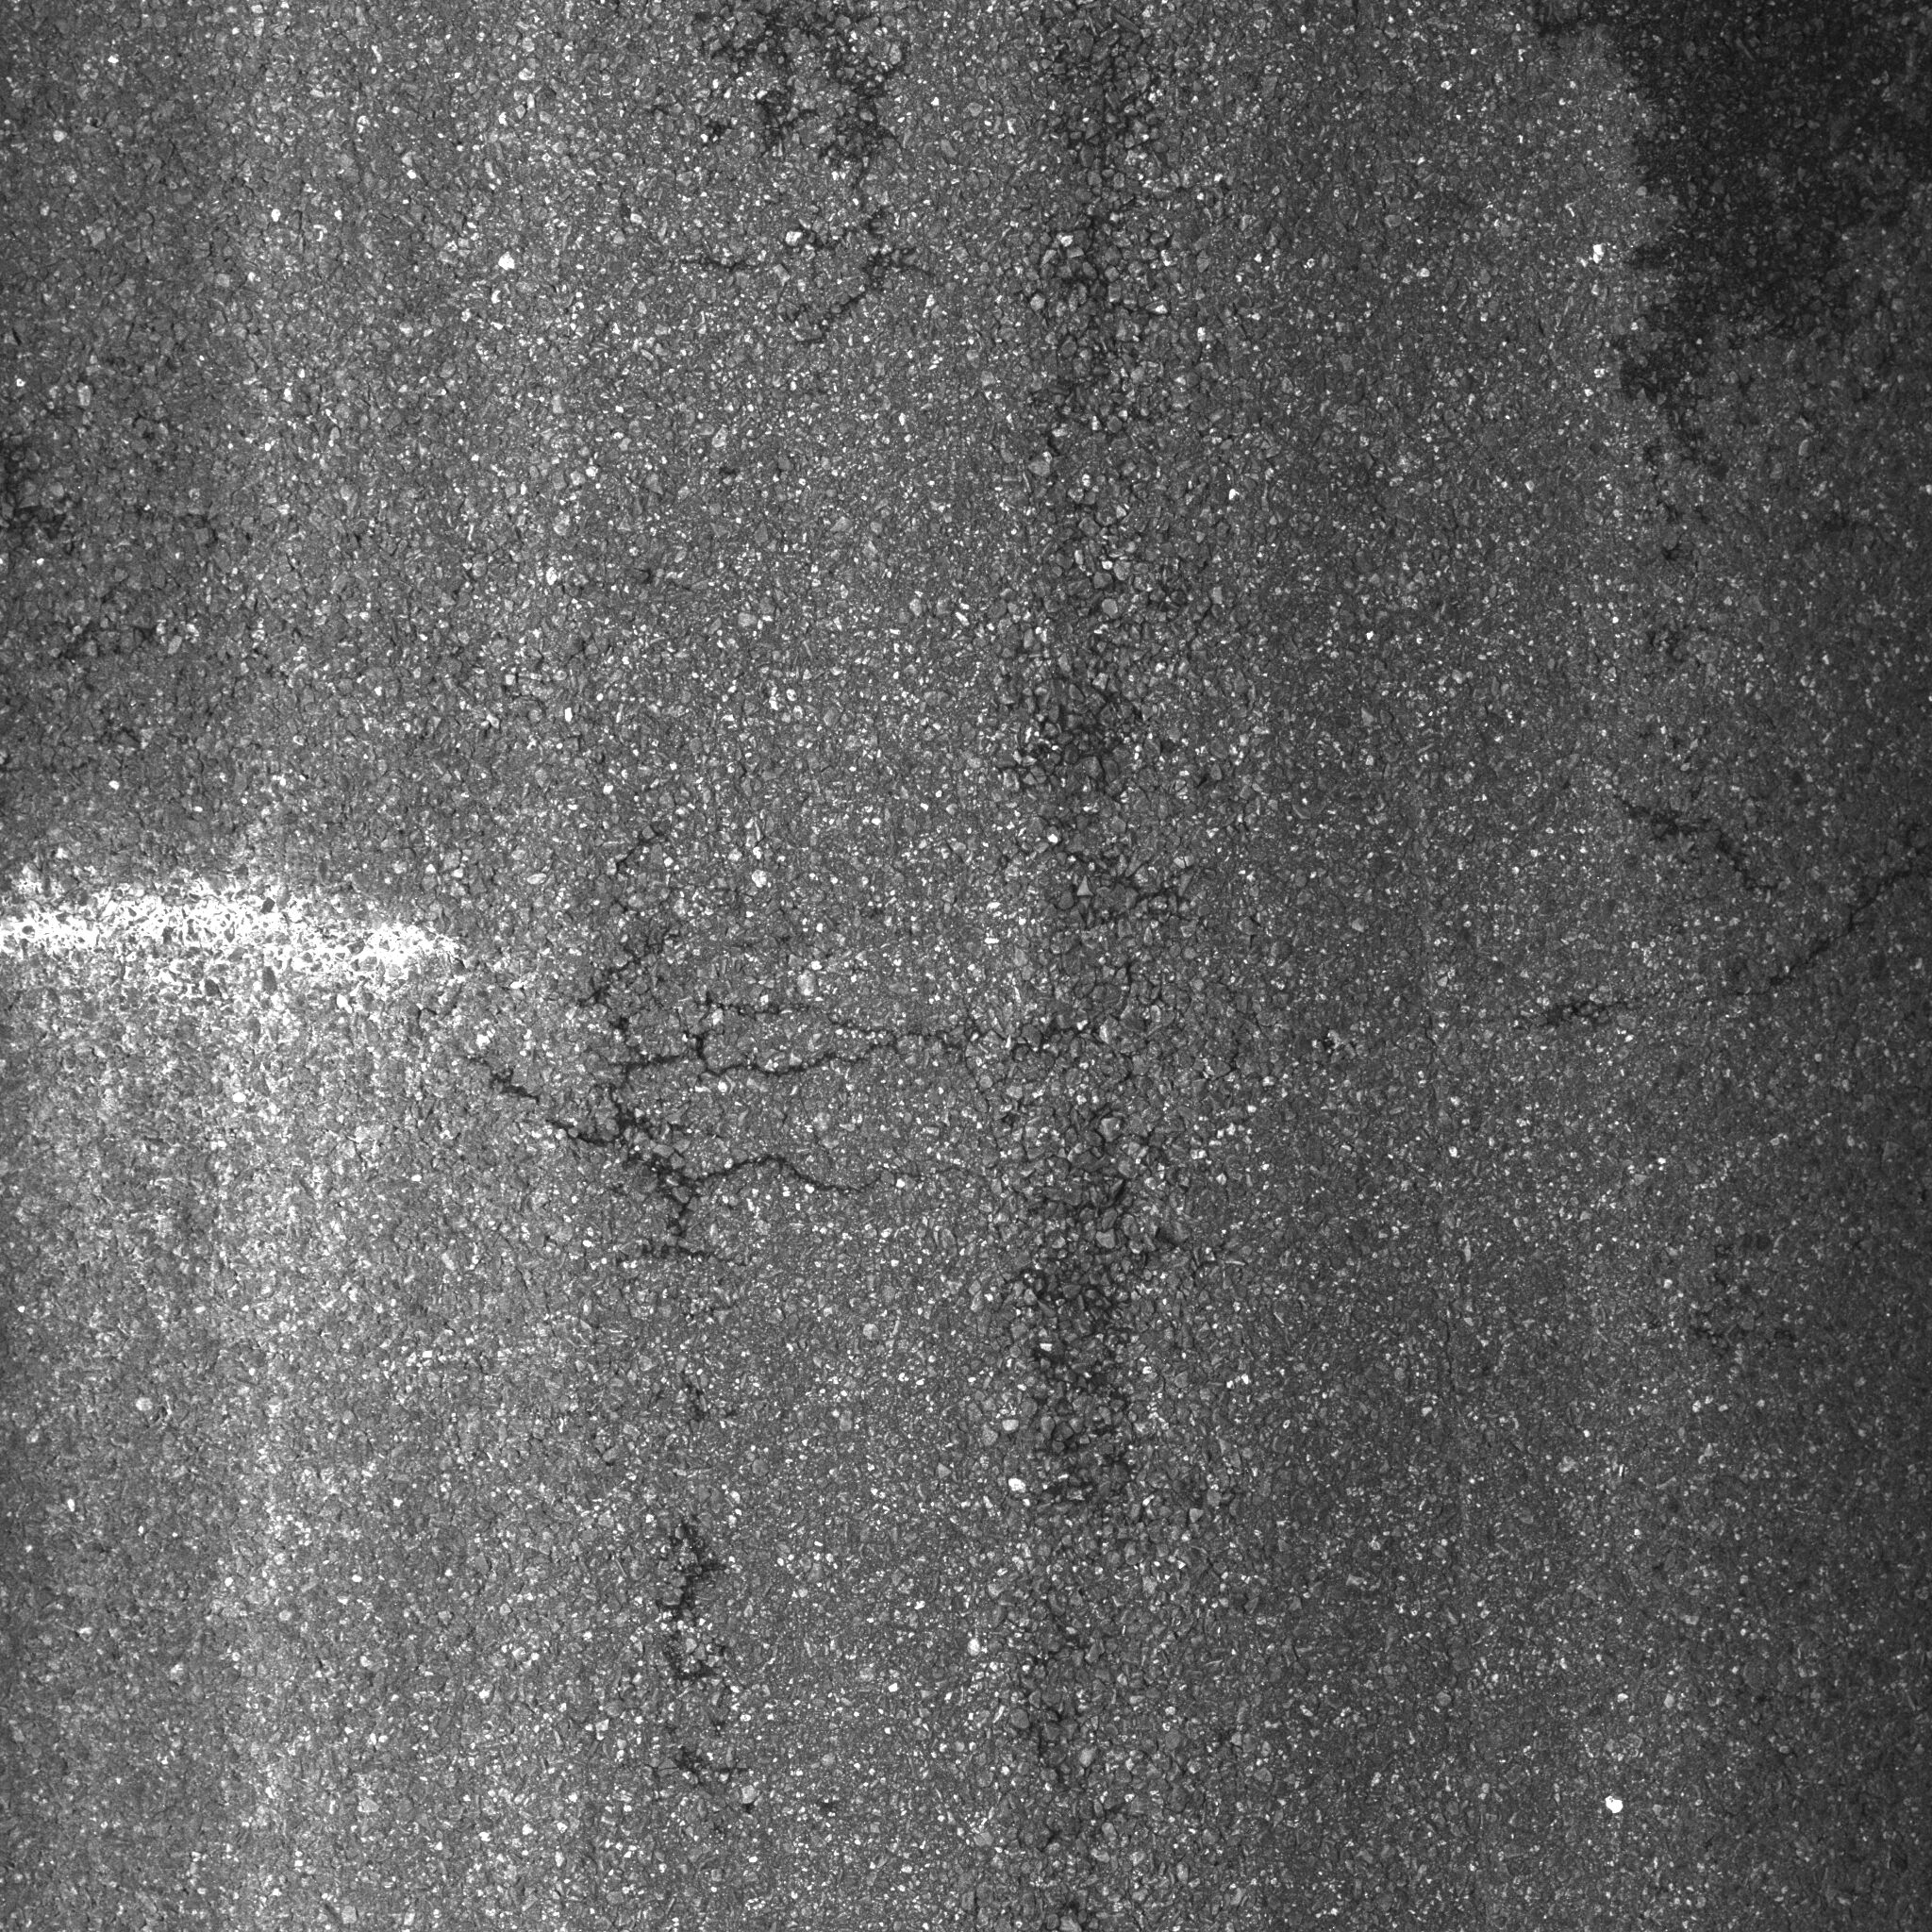transeverse: (474, 938, 991, 1276), (672, 2, 941, 350), (1743, 800, 1932, 1003)
